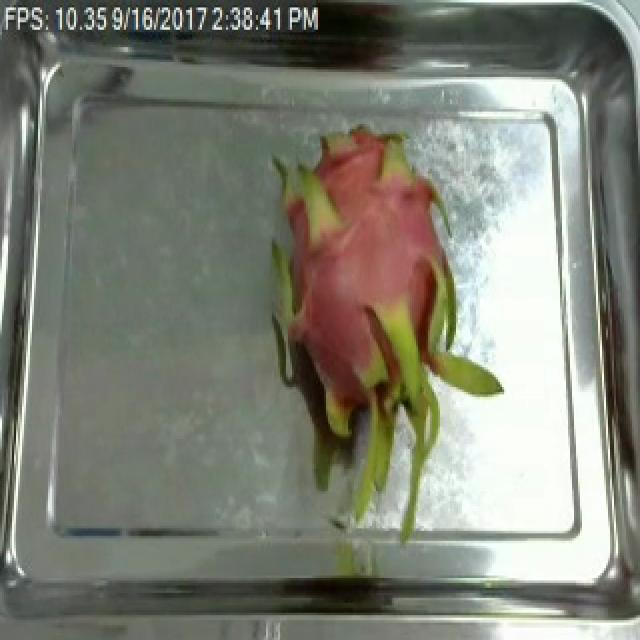fruit: (242, 112, 514, 538)
